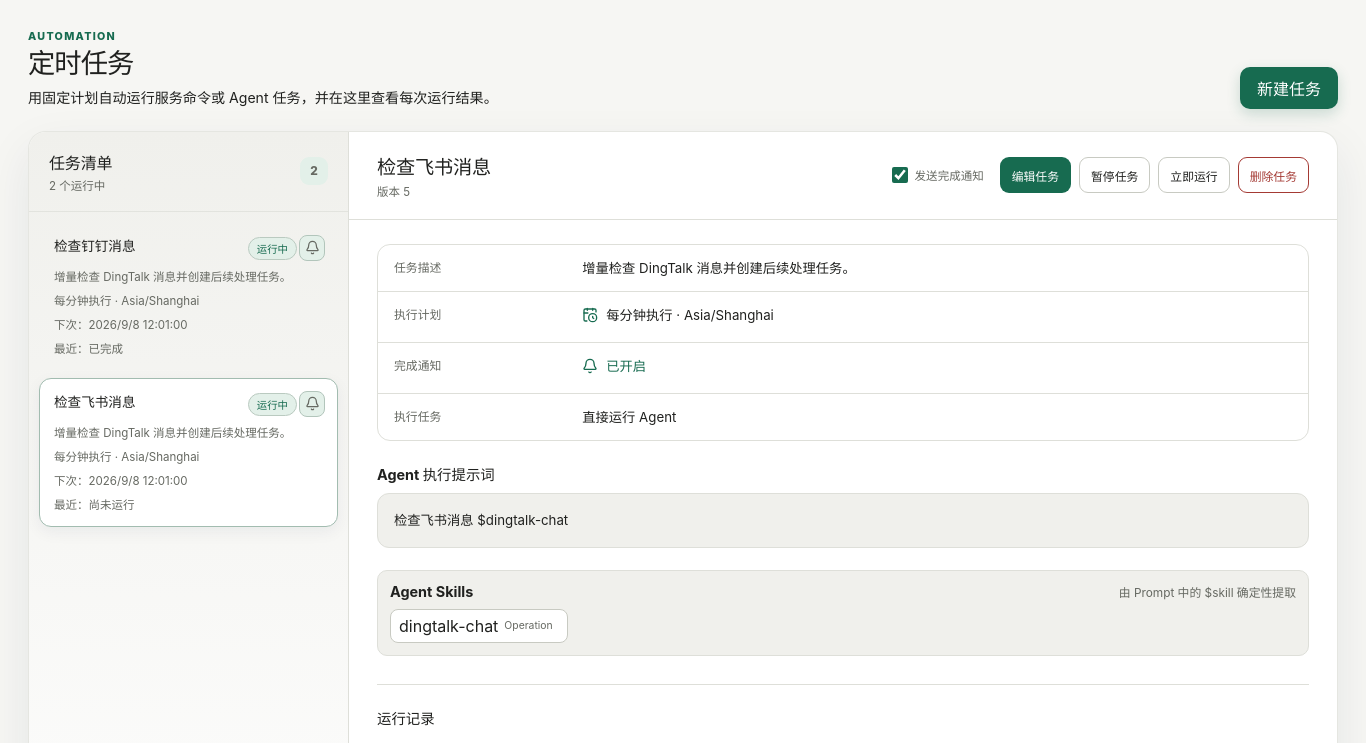
Test: ScheduledTasksPage › selects the task named by the Attention deep link
What coordinates should you click on to do the following:
click the button "编辑任务"
I would click on:
 (1035, 175)
Its box is left=1000, top=157, right=1071, bottom=193.
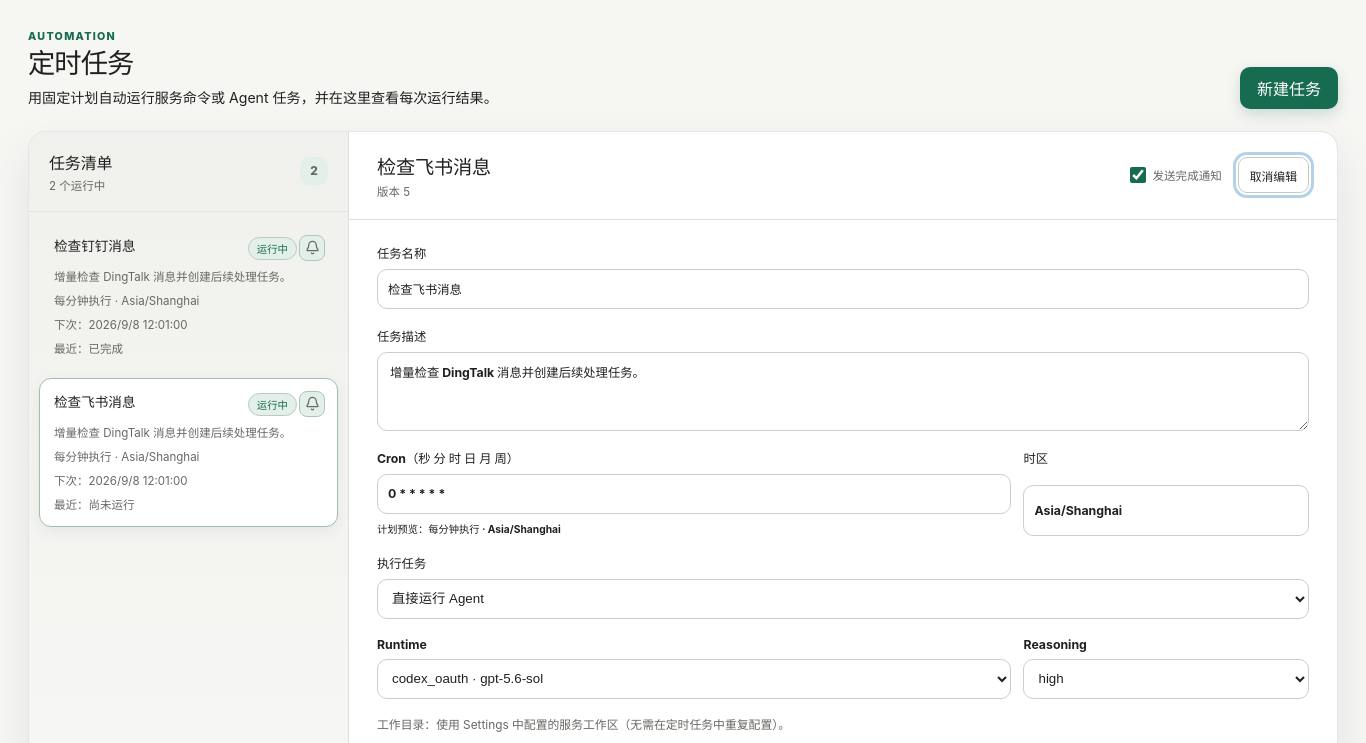
Check: the field labelled "任务名称" holds "检查飞书消息", box left=377, top=268, right=1309, bottom=308
